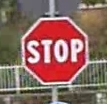stop: (19, 14, 89, 85)
